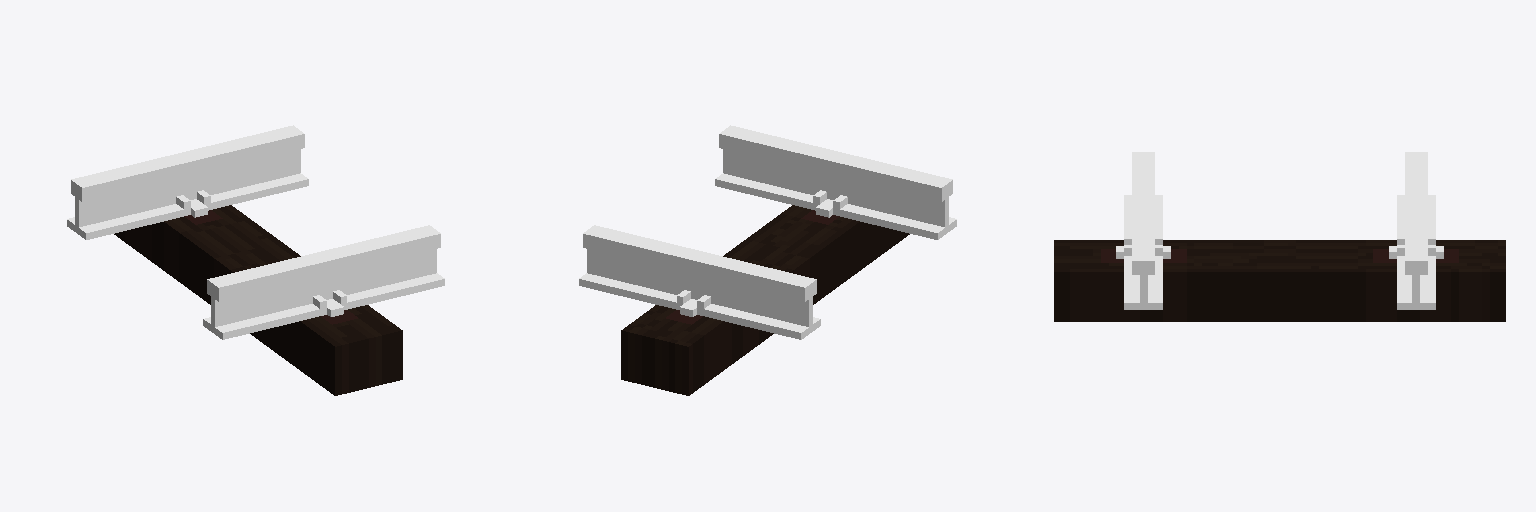
3 views of the same model, side by side, from view 1: azimuth 30°, elevation 25°; view 2: azimuth 150°, elevation 25°; view 3: azimuth 270°, elevation 25° (orthographic).
Parts seen in each view (by area): view 1: RAIL_BASE_1, RAIL_LEFT, RAIL_RIGHT, RAIL_BASE; view 2: RAIL_BASE_1, RAIL_RIGHT, RAIL_LEFT, RAIL_BASE; view 3: RAIL_BASE_1, RAIL_LEFT, RAIL_RIGHT, RAIL_BASE.
Boxes of the visible parts, x1=… form: RAIL_BASE_1: x1=114, y1=205, x2=402, y2=395; RAIL_LEFT: x1=203, y1=225, x2=444, y2=339; RAIL_RIGHT: x1=67, y1=125, x2=308, y2=239; RAIL_BASE: x1=176, y1=190, x2=346, y2=316; RAIL_BASE_1: x1=621, y1=205, x2=909, y2=395; RAIL_RIGHT: x1=579, y1=225, x2=820, y2=339; RAIL_LEFT: x1=715, y1=125, x2=956, y2=239; RAIL_BASE: x1=677, y1=190, x2=847, y2=316; RAIL_BASE_1: x1=1054, y1=240, x2=1505, y2=321; RAIL_LEFT: x1=1124, y1=152, x2=1162, y2=309; RAIL_RIGHT: x1=1397, y1=152, x2=1435, y2=309; RAIL_BASE: x1=1116, y1=235, x2=1443, y2=258.
Size of the model in its own units: 1.03 by 0.4375 by 1.81.
2 materials, 1 textured.